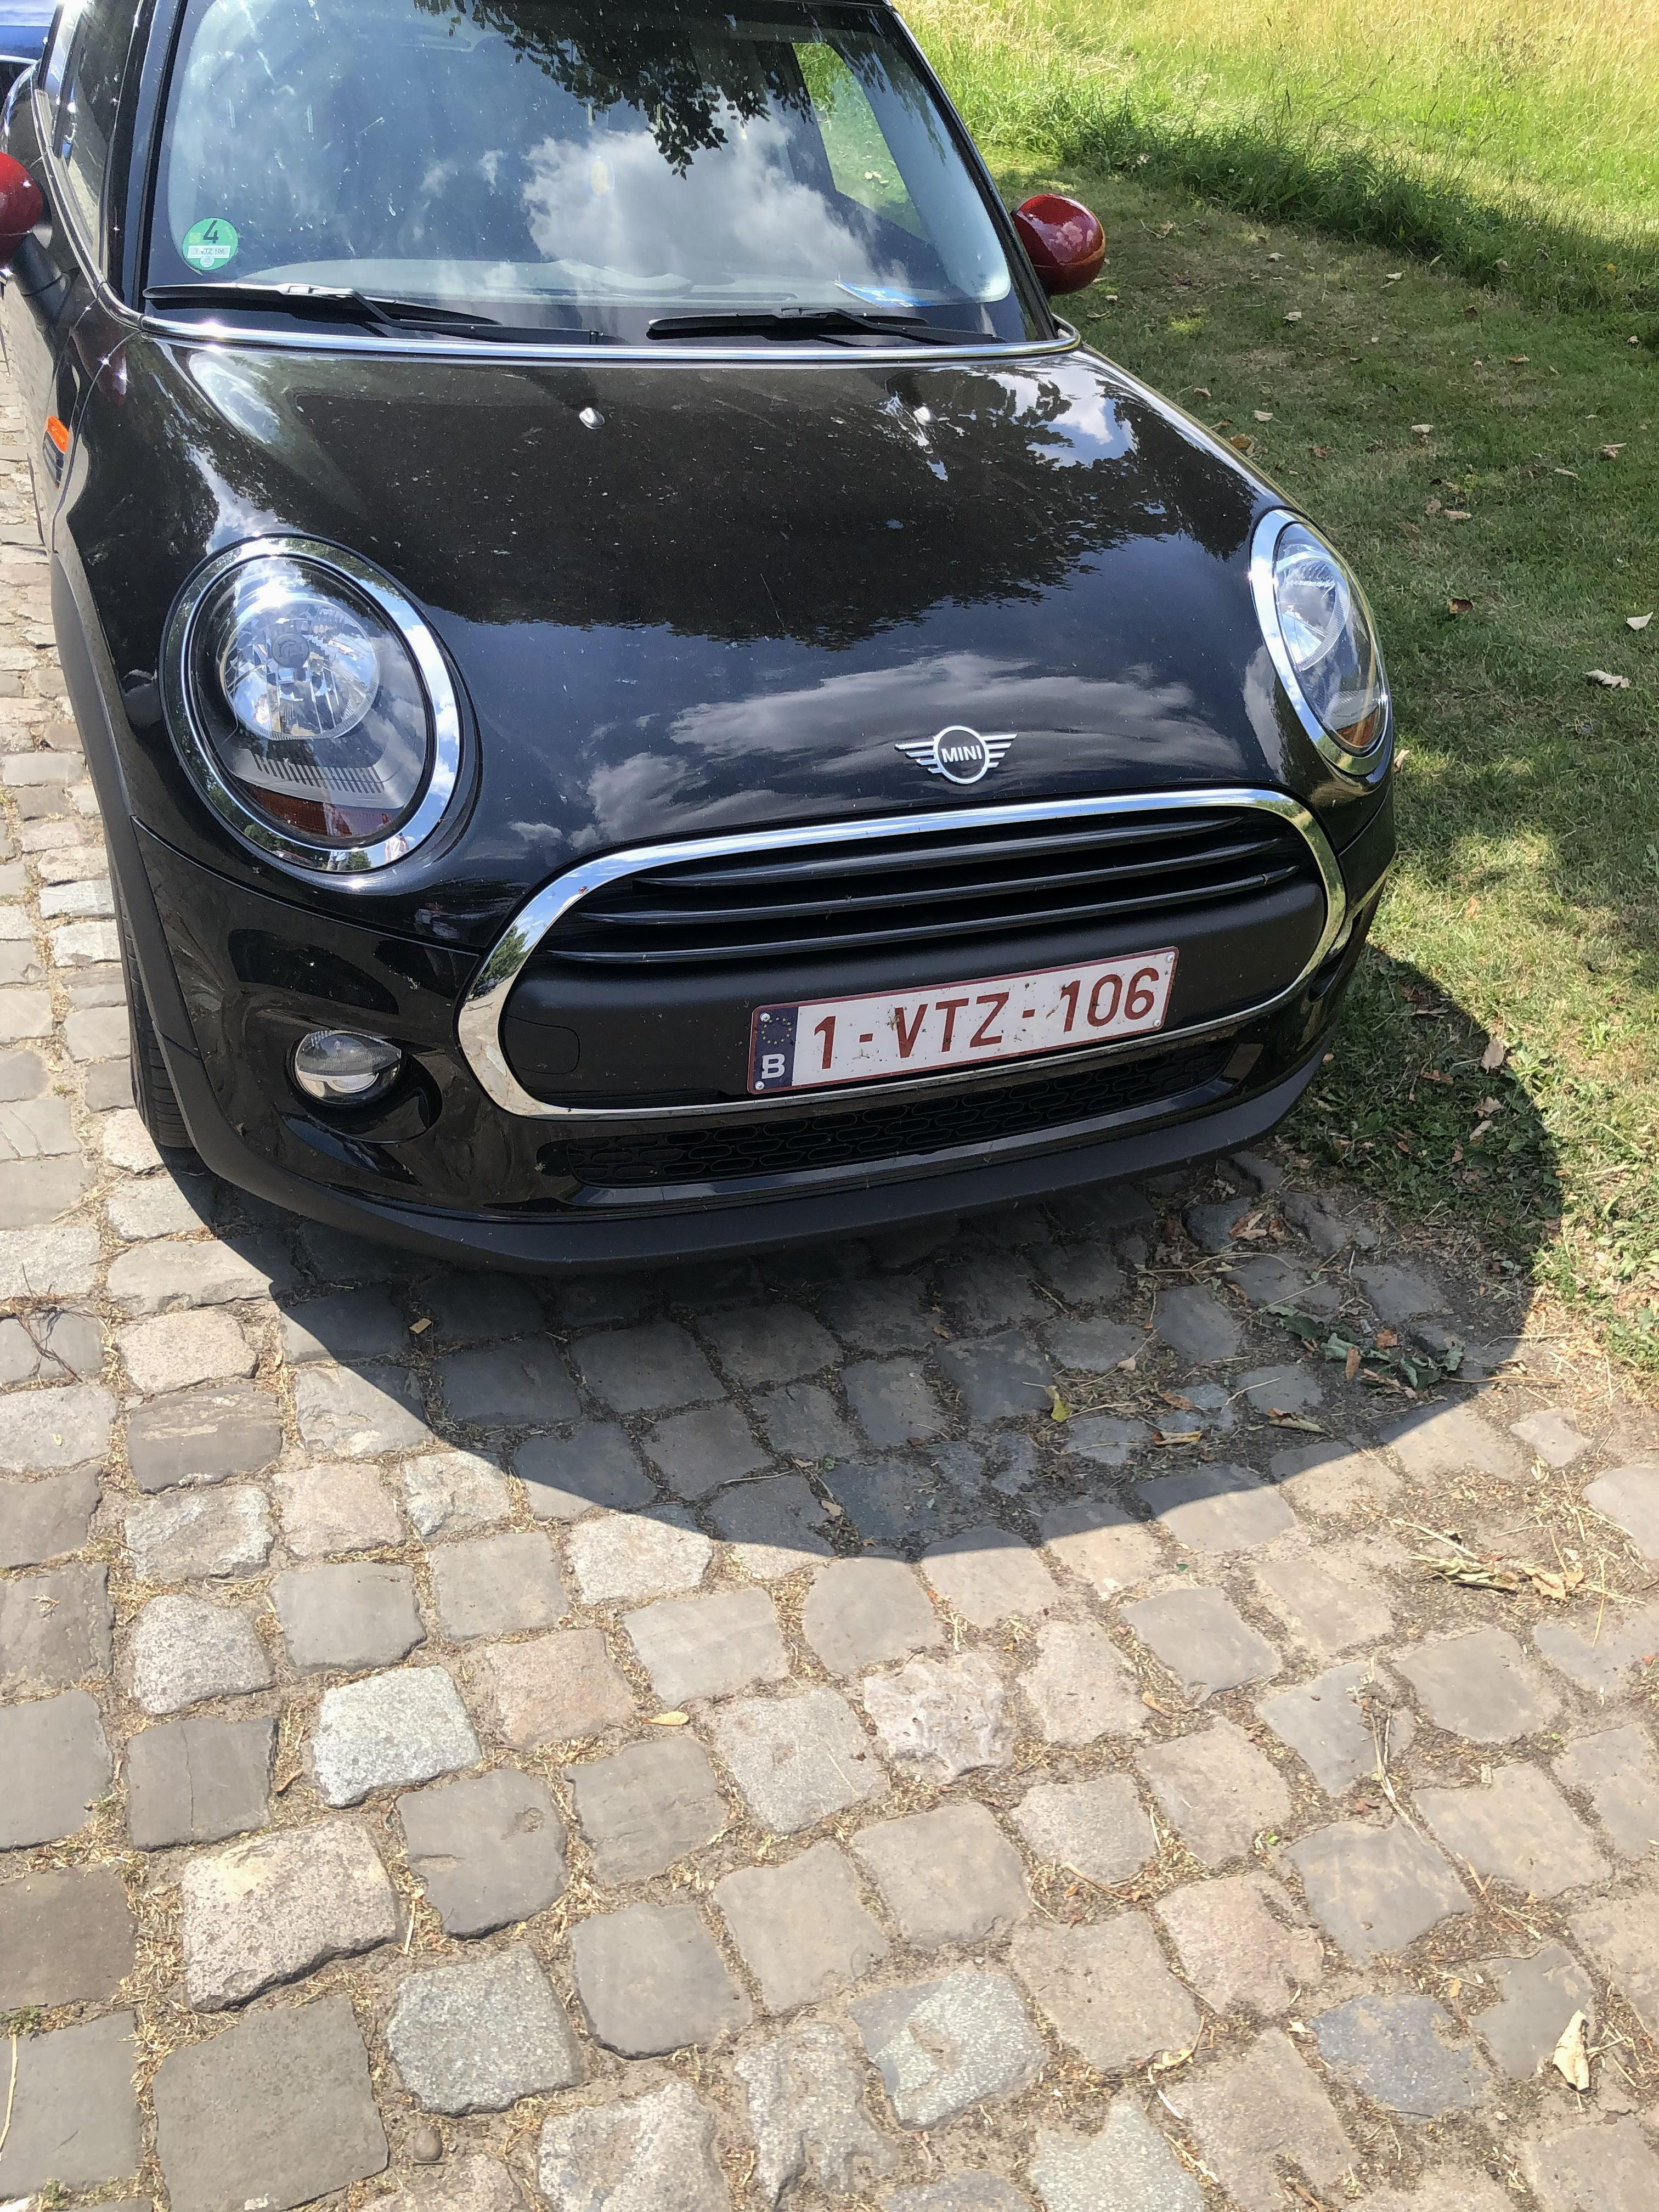plate: (732, 933, 1198, 1111)
